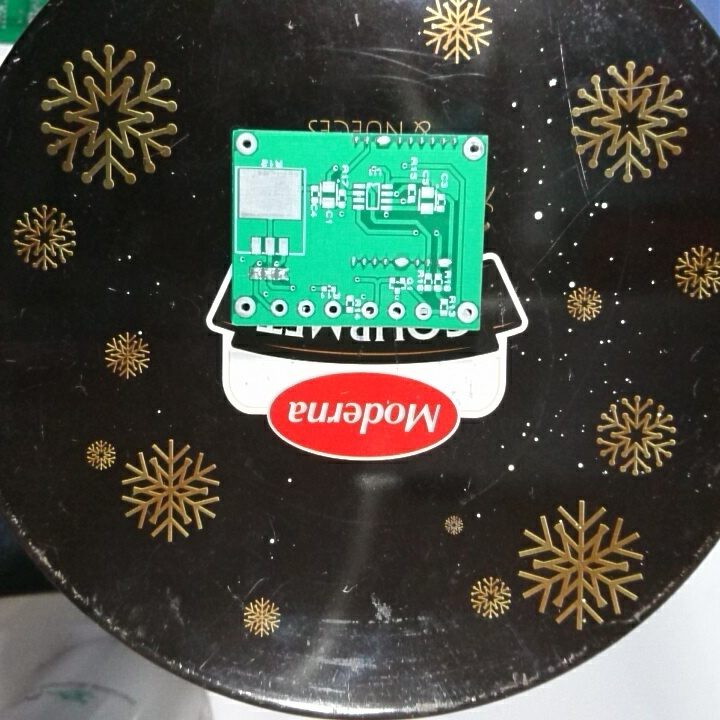F: (234, 129, 261, 158), (460, 135, 486, 163), (232, 294, 259, 318), (455, 300, 478, 326), (294, 298, 317, 322), (385, 299, 408, 322), (268, 298, 290, 320), (413, 300, 434, 323), (322, 298, 343, 320), (359, 299, 380, 320)
P: (434, 255, 455, 272), (373, 133, 395, 149), (391, 255, 412, 271)
